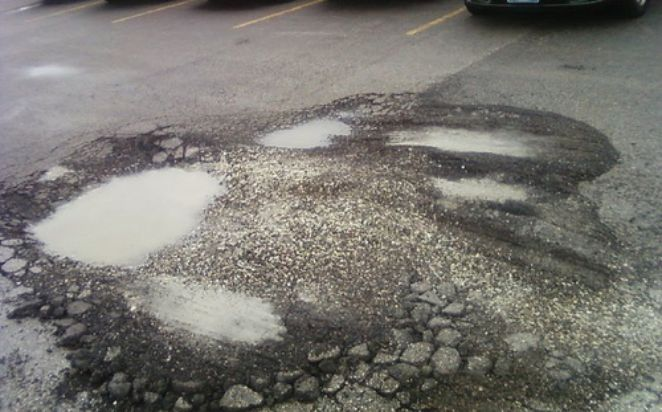pothole: (20, 134, 236, 270), (127, 277, 315, 360), (372, 113, 561, 161), (247, 106, 355, 151), (425, 166, 543, 206)
